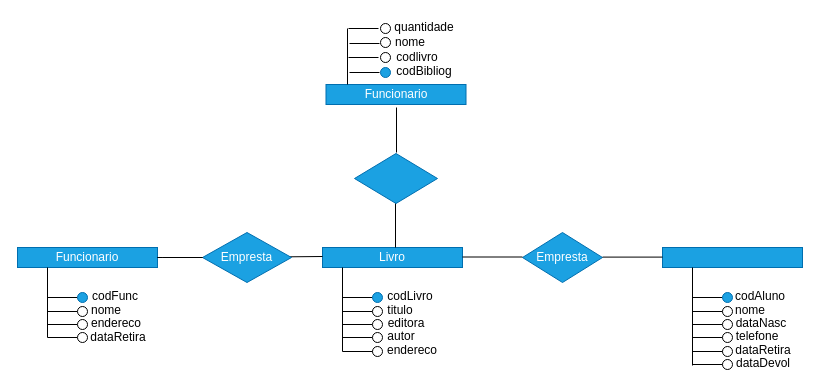
Some shapes in this 820 by 390 pixel diagram are drawn without their labels. Each missing label, with the box of its shape:
Aluno: (662, 246, 802, 268)
Pertence: (354, 152, 438, 204)
